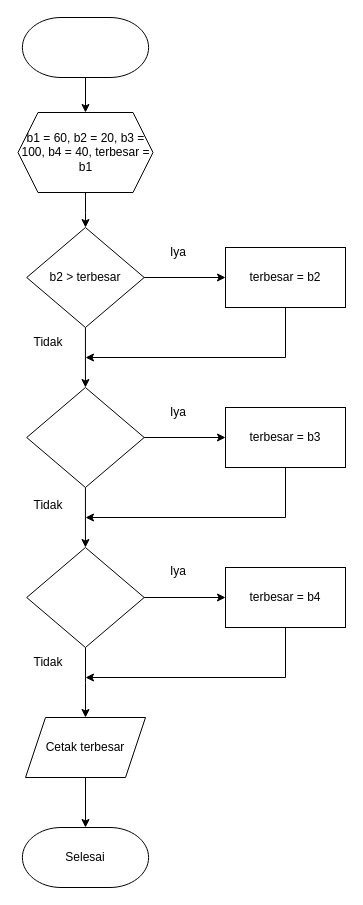
This 363x905 diagram has some shape labels left out. Each missing label, with the centre of its shape:
b3 > terbesar: the point at 85,437
b4 > terbesar: the point at 85,597
Mulai: the point at 85,47
